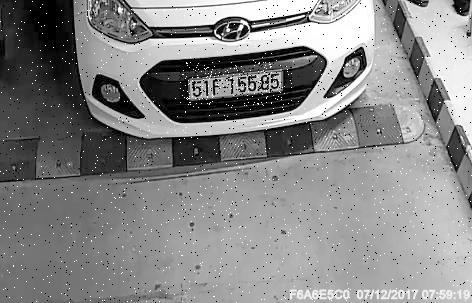License-plate: (181, 63, 293, 107)
